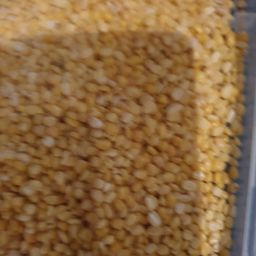Red Split Lentils(malka masar): (11, 13, 197, 249), (15, 63, 238, 228)
